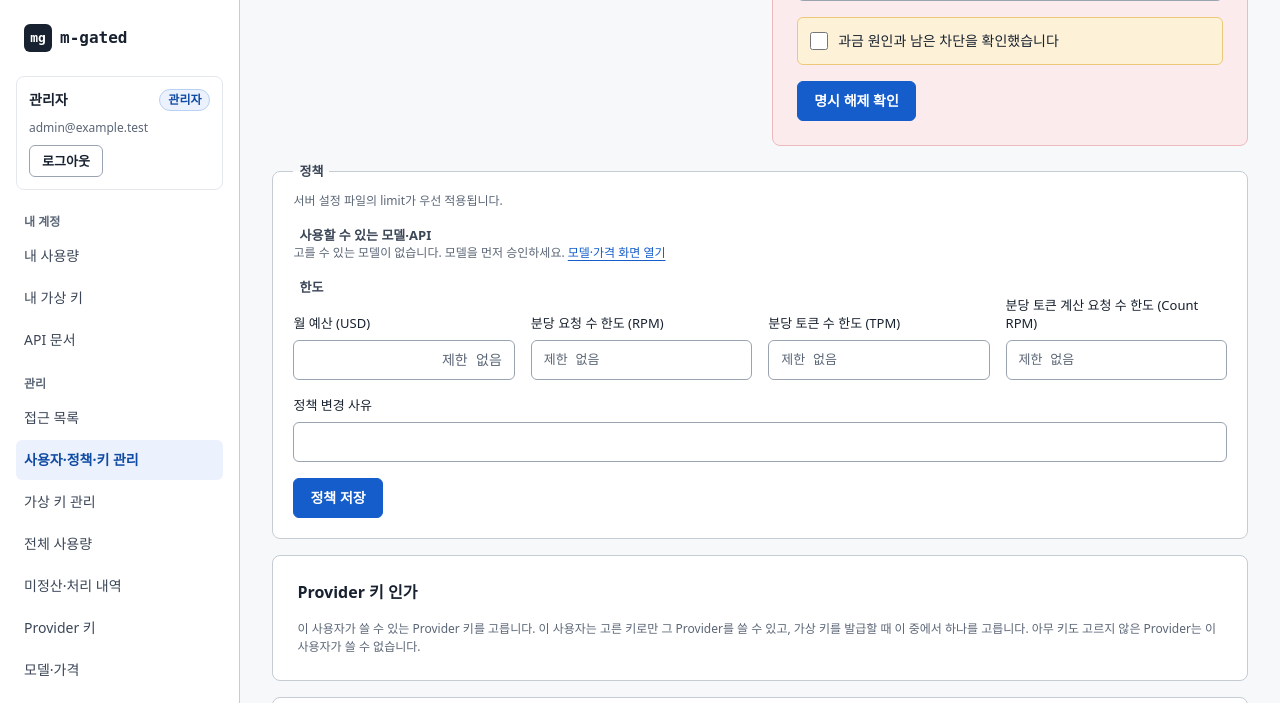
policy_form_rejects_a_malformed_budget_without_sending
The image size is (1280, 703).
(page scrolled)
Expected: the element "사용할 수 있는 모델·API" shows "고를 수 있는 모델이 없습니다", [294,244,565,261]
Type "1.5.0" into the field labelled "월 예산 (USD)". click: (404, 360)
box: [294,340,515,380]
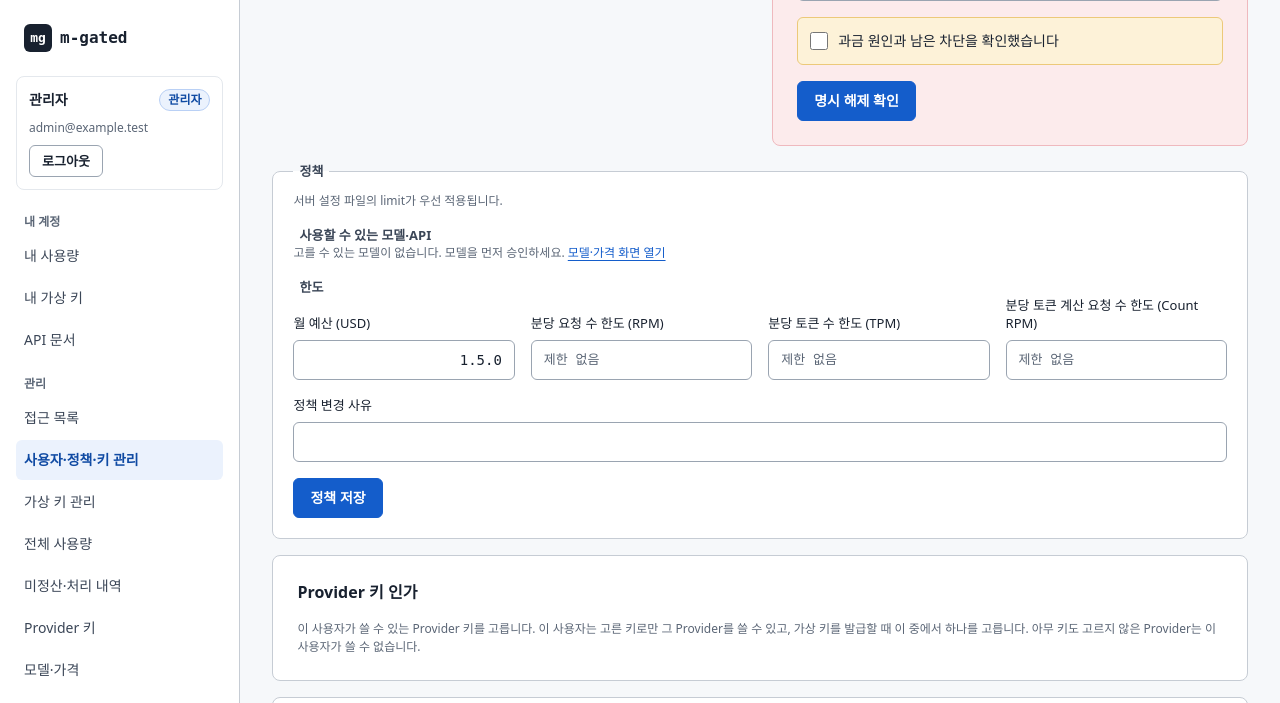
Type "x" into the field labelled "정책 변경 사유". click: (760, 442)
box: [294,422,1227,462]
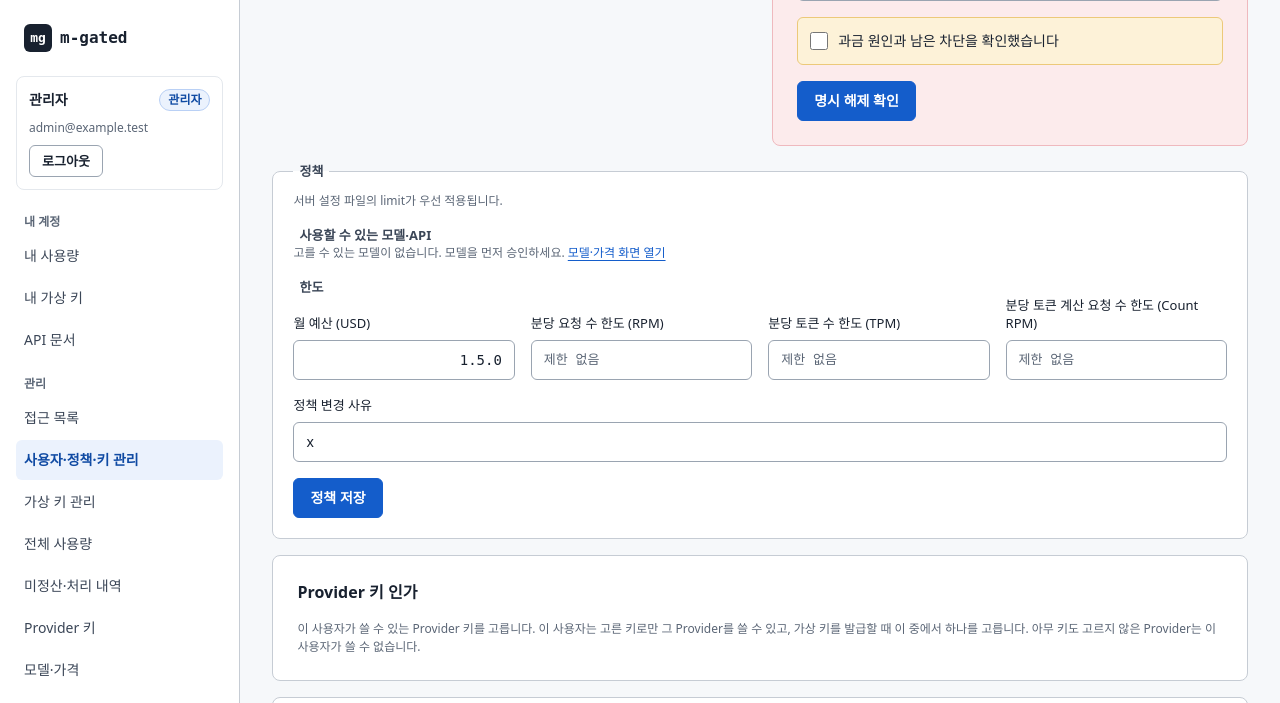
Submit the form named "정책 편집", box [272,162,1248,539]
(page scrolled)
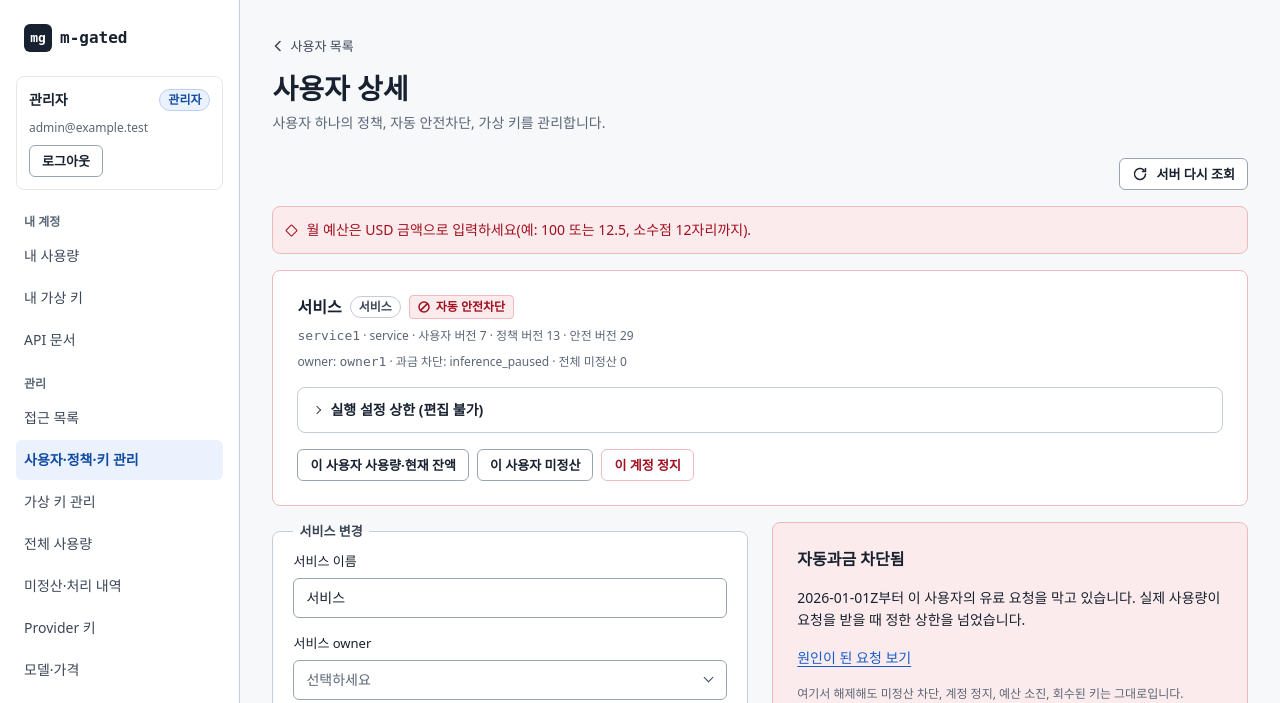
Result: the text "월 예산은 USD 금액으로 입력하세요(예: 100 또는 12.5, 소수점 12자리까지)." is shown at [272,206,1248,254]
